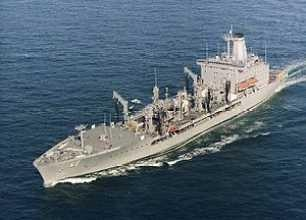warship: (27, 21, 292, 188)
